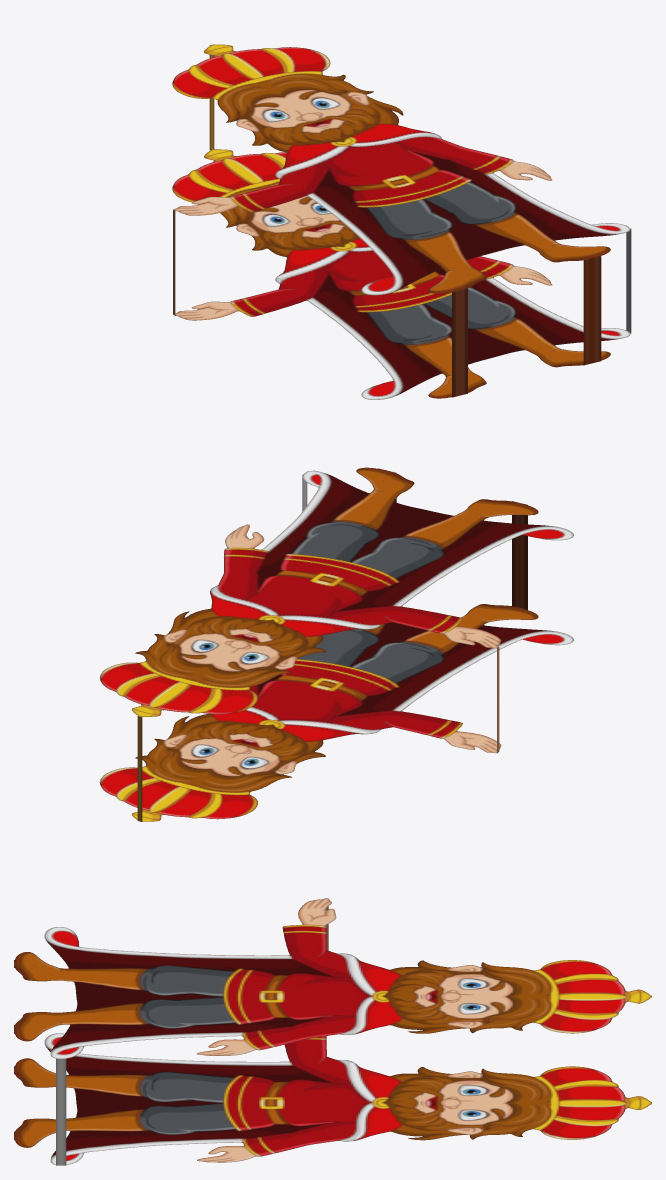
3 views of the same model, one above another, from view 1: azimuth 30°, elevation 25°; view 2: azimuth 150°, elevation 25°; view 3: azimuth 270°, elevation 25° (orthographic).
Visible parts, largest first — view 1: pngtree-cartoon-king-standing-on-white-background-png-image_; view 2: pngtree-cartoon-king-standing-on-white-background-png-image_; view 3: pngtree-cartoon-king-standing-on-white-background-png-image_.
Part boxes in pixels (x1,y1,x2,y2): pngtree-cartoon-king-standing-on-white-background-png-image_: (172, 44, 631, 399); pngtree-cartoon-king-standing-on-white-background-png-image_: (99, 467, 573, 821); pngtree-cartoon-king-standing-on-white-background-png-image_: (14, 898, 651, 1165).
Bounding box in the file's own units: 59.56 × 18.41 × 100.
1 material, 1 textured.
